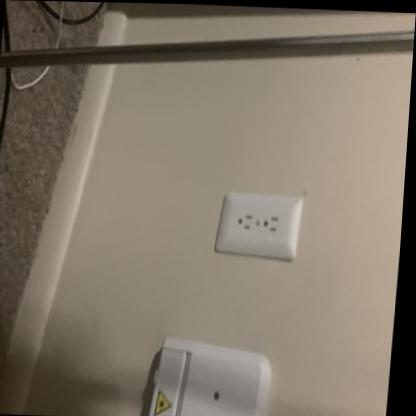OUTLET: (213, 190, 304, 259)
